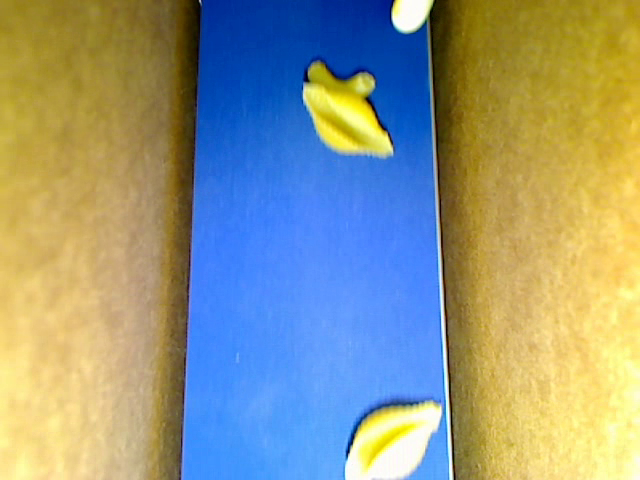elbow: (307, 59, 375, 96)
shell: (344, 400, 442, 479), (302, 83, 395, 157)
